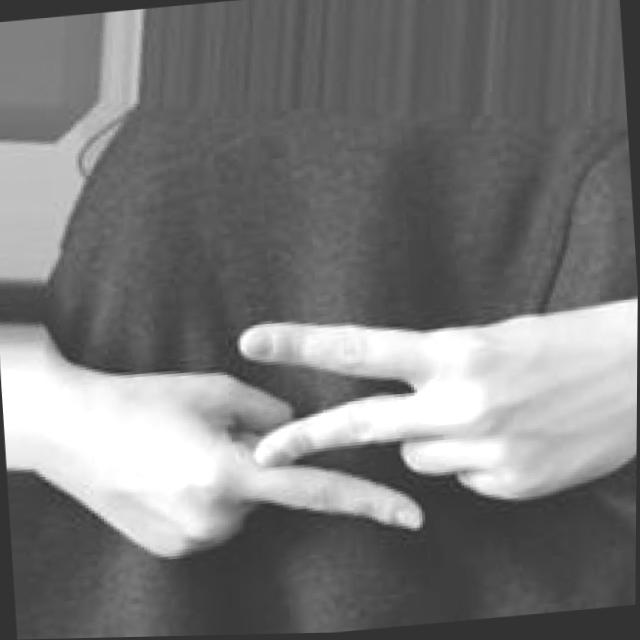Z: (65, 284, 638, 561)
